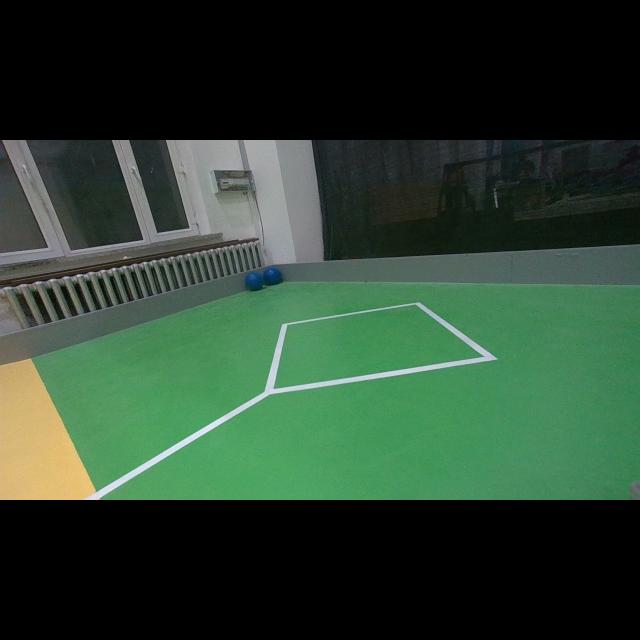B: (244, 272, 264, 290), (263, 268, 281, 284)
